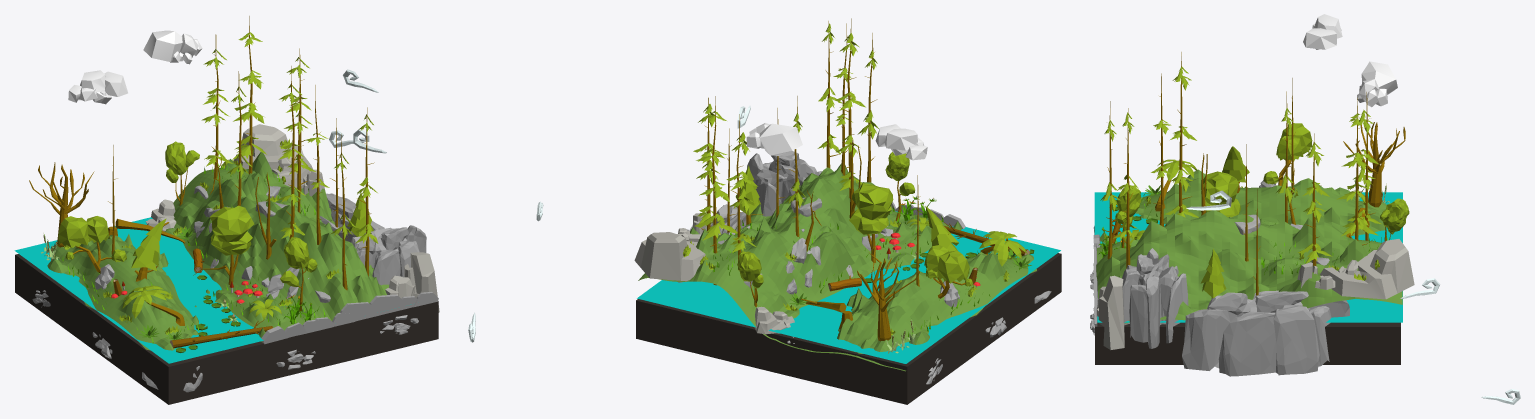
File: Nature.fbx
3 renders of one model, left to right at view 1: azimuth 30°, elevation 25°; view 2: azimuth 150°, elevation 25°; view 3: azimuth 270°, elevation 25°, orthographic.
Visible parts, largest first — view 1: Terrain_Plane_Rock_Uneven_Large_03, Cube, LowPolyWaterv2, Rock_Chunks_Large_Tall_01 1, Rock_Large_15 (1), Cloud_04, Cloud_01, Vegetation_Modular_Tree_Foliage_Clump_Large_09 (1), Vegetation_Modular_Tree_Trunk_Banyan_03, Rock_Large_17, Vegetation_Modular_Tree_Foliage_Alpine_02, Rock_Chunks_Large_Tall_01 (1) 1 (+17 smaller); view 2: Terrain_Plane_Rock_Uneven_Large_03, Cube, LowPolyWaterv2, Rock_Large_15 (1), Rock_Chunks_Large_Tall_01 1, Cloud_04, Vegetation_Modular_Tree_Trunk_Banyan_03, Cloud_01, Vegetation_Modular_Tree_Foliage_Clump_Large_09 (1), Vegetation_Modular_Tree_Foliage_Clump_Draped_03, Rock_Chunks_Large_01 (8), Vegetation_Modular_Tree_Foliage_Tropical_Palm_03 (+5 smaller); view 3: Terrain_Plane_Rock_Uneven_Large_03, Rock_Chunks_Large_Tall_01 (1) 1, Cube, Rock_Chunks_Large_Tall_01 1, Rock_Large_15 (1), LowPolyWaterv2, Rock_Large_17, Cloud_04, Vegetation_Modular_Tree_Trunk_Banyan_03, Cloud_01, Vegetation_Modular_Tree_Foliage_Clump_Large_09 (1), Vegetation_Modular_Tree_Foliage_Alpine_04 (+10 smaller).
Boxes of the visible parts, x1,y1,x2,y2 form: Terrain_Plane_Rock_Uneven_Large_03: [47, 152, 389, 350]; Cube: [15, 254, 438, 404]; LowPolyWaterv2: [14, 217, 411, 363]; Rock_Chunks_Large_Tall_01 1: [351, 225, 426, 285]; Rock_Large_15 (1): [233, 124, 312, 188]; Cloud_04: [143, 30, 202, 64]; Cloud_01: [68, 70, 127, 104]; Vegetation_Modular_Tree_Foliage_Clump_Large_09 (1): [209, 205, 254, 242]; Vegetation_Modular_Tree_Trunk_Banyan_03: [29, 162, 94, 247]; Rock_Large_17: [404, 252, 439, 312]; Vegetation_Modular_Tree_Foliage_Alpine_02: [131, 218, 166, 270]; Rock_Chunks_Large_Tall_01 (1) 1: [320, 193, 384, 242]; Terrain_Plane_Rock_Uneven_Large_03: [638, 163, 1036, 371]; Cube: [636, 253, 1061, 404]; LowPolyWaterv2: [637, 211, 1060, 363]; Rock_Large_15 (1): [634, 232, 705, 281]; Rock_Chunks_Large_Tall_01 1: [747, 151, 821, 216]; Cloud_04: [746, 123, 802, 155]; Vegetation_Modular_Tree_Trunk_Banyan_03: [857, 252, 919, 341]; Cloud_01: [875, 124, 927, 160]; Vegetation_Modular_Tree_Foliage_Clump_Large_09 (1): [852, 183, 893, 219]; Vegetation_Modular_Tree_Foliage_Clump_Draped_03: [937, 250, 969, 283]; Rock_Chunks_Large_01 (8): [786, 228, 821, 294]; Vegetation_Modular_Tree_Foliage_Tropical_Palm_03: [979, 231, 1027, 266]; Terrain_Plane_Rock_Uneven_Large_03: [1096, 169, 1402, 323]; Rock_Chunks_Large_Tall_01 (1) 1: [1182, 290, 1349, 376]; Cube: [1095, 322, 1400, 364]; Rock_Chunks_Large_Tall_01 1: [1122, 248, 1188, 348]; Rock_Large_15 (1): [1320, 239, 1414, 299]; LowPolyWaterv2: [1094, 192, 1402, 322]; Rock_Large_17: [1097, 275, 1124, 349]; Cloud_04: [1357, 61, 1397, 107]; Vegetation_Modular_Tree_Trunk_Banyan_03: [1343, 122, 1405, 207]; Cloud_01: [1303, 14, 1342, 49]; Vegetation_Modular_Tree_Foliage_Clump_Large_09 (1): [1201, 171, 1238, 205]; Vegetation_Modular_Tree_Foliage_Alpine_04: [1200, 249, 1226, 298].
Bounding box in the file's own units: 15.64 × 10.17 × 14.72.
